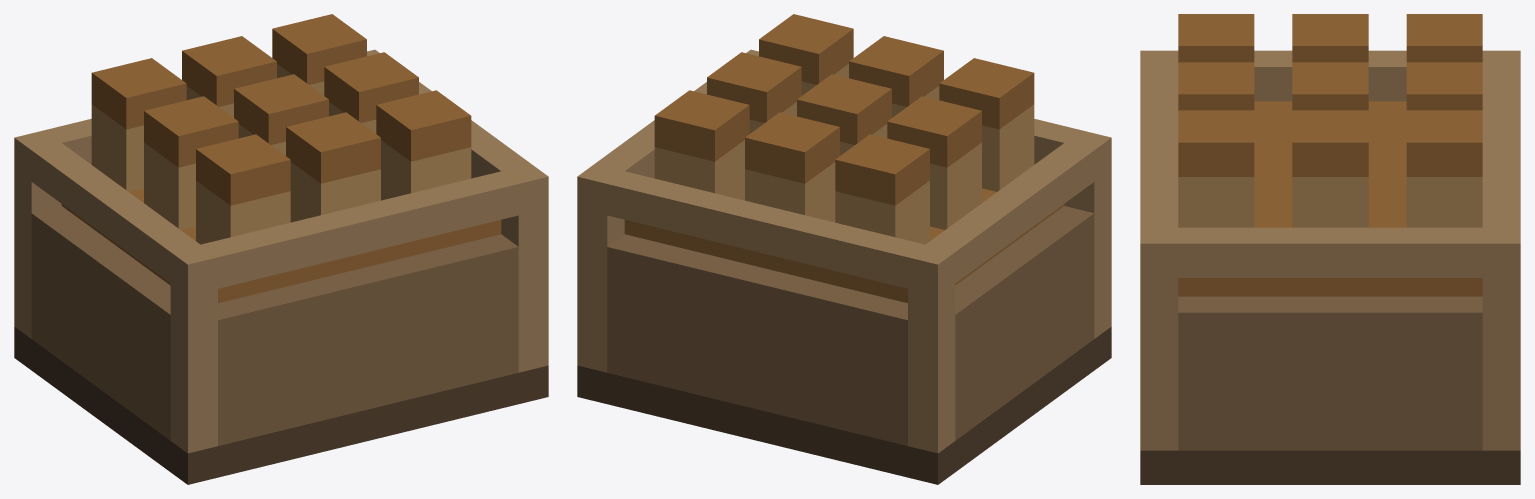
Rendered from oak_acorn_full.glb.
3 views of the same model, side by side, from view 1: azimuth 30°, elevation 25°; view 2: azimuth 150°, elevation 25°; view 3: azimuth 270°, elevation 25° (orthographic). The views are drawn at different scales.
Visible parts, largest first — view 1: VoxelVisual; view 2: VoxelVisual; view 3: VoxelVisual.
Boxes of the visible parts, x1=… form: VoxelVisual: x1=14, y1=14, x2=548, y2=484; VoxelVisual: x1=577, y1=14, x2=1111, y2=484; VoxelVisual: x1=1140, y1=14, x2=1520, y2=484.
Size of what is drawn, in the model's own units: 0.75 by 0.5625 by 0.625.
